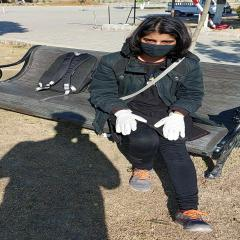gloved: (155, 113, 187, 140), (115, 109, 146, 136)
